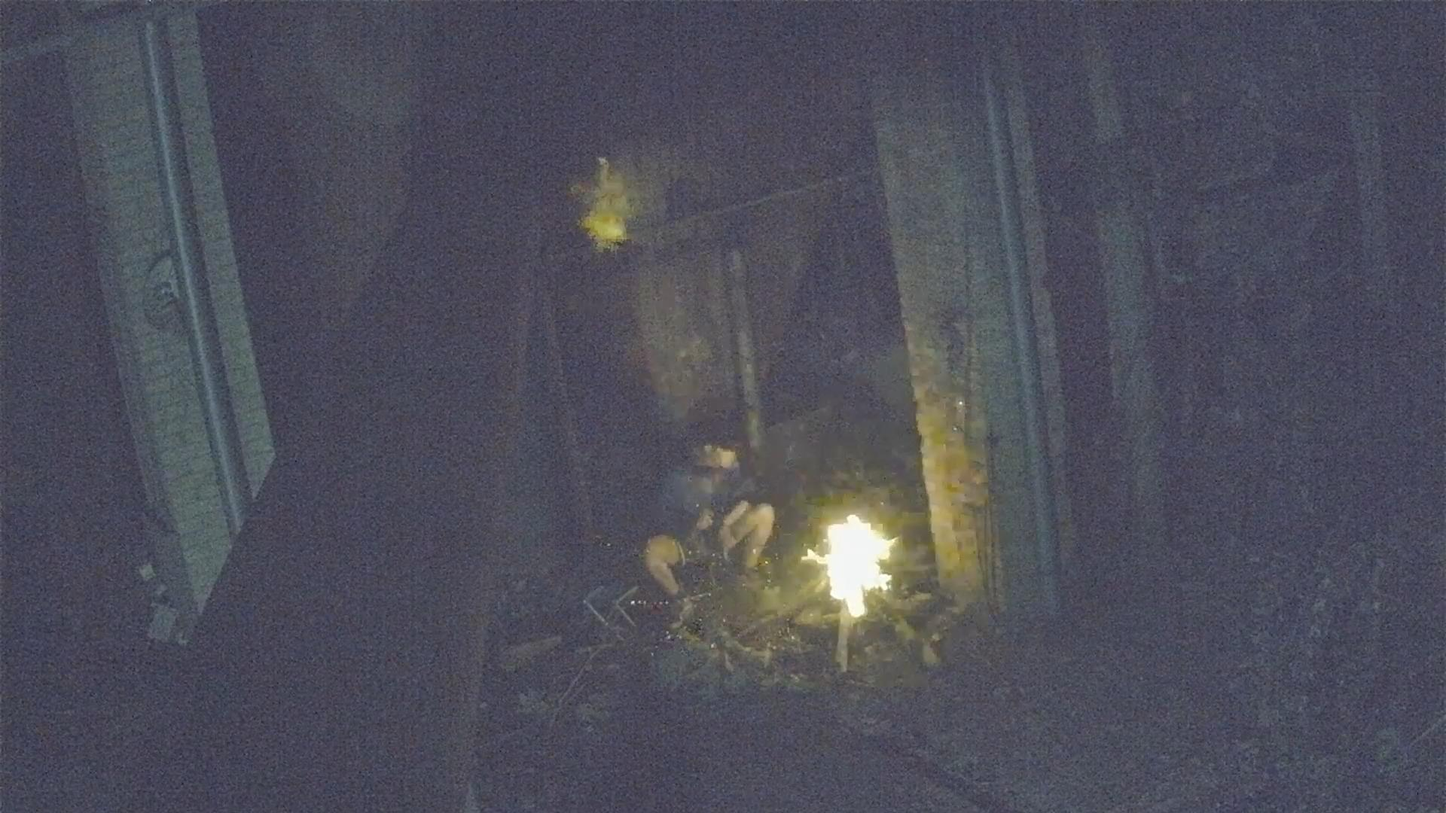fire: (818, 516, 892, 618)
